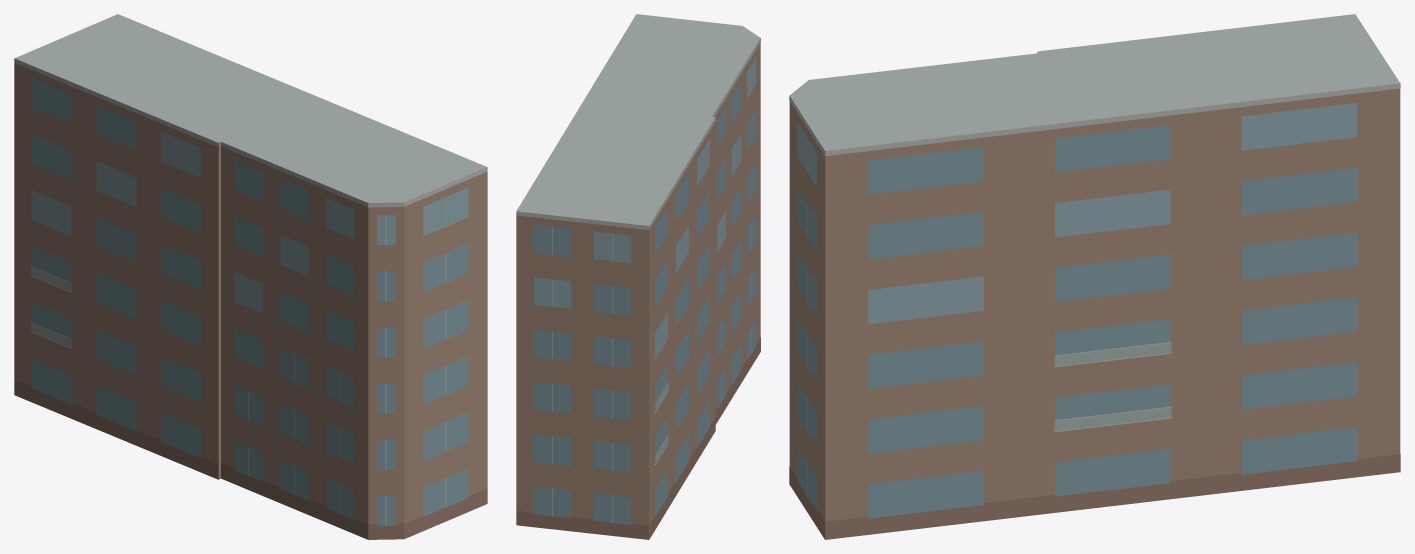
Rendered from survey-upis-32562610.glb.
3 views of the same model, side by side, from view 1: azimuth 30°, elevation 25°; view 2: azimuth 150°, elevation 25°; view 3: azimuth 270°, elevation 25° (orthographic). The views are drawn at different scales.
Visible parts, largest first — view 1: survey-upis-32562610.tmp; view 2: survey-upis-32562610.tmp; view 3: survey-upis-32562610.tmp.
Boxes of the visible parts, x1,y1,x2,y2 form: survey-upis-32562610.tmp: [14, 14, 487, 539]; survey-upis-32562610.tmp: [516, 14, 760, 539]; survey-upis-32562610.tmp: [789, 14, 1400, 539].
Size of the model in its own units: 14.08 by 18.6 by 26.5.
